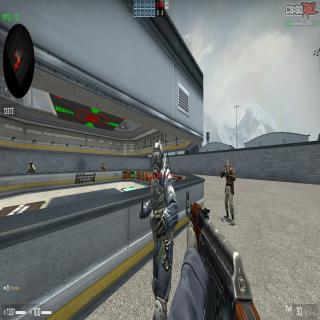CT-Body: (139, 140, 178, 320), (26, 161, 36, 174)
CT-Head: (150, 141, 166, 180), (30, 162, 32, 167)
T-Body: (220, 160, 236, 225), (101, 163, 105, 170)
T-Head: (226, 160, 230, 170), (102, 163, 104, 167)
